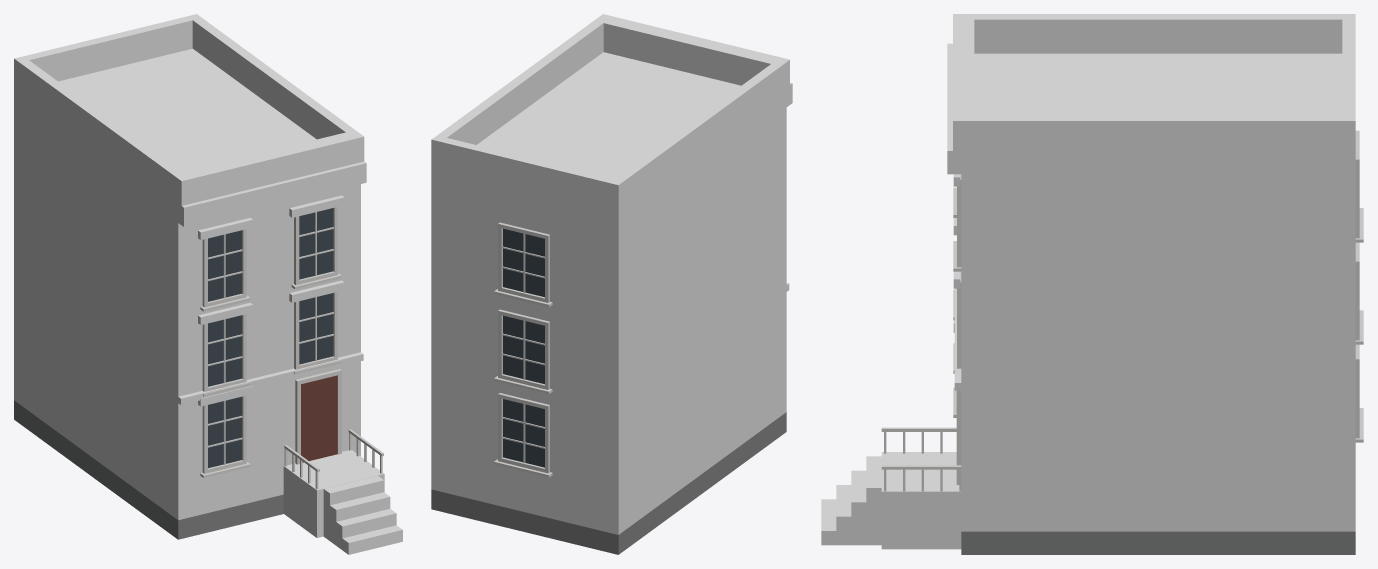
File: city_townhouse.fbx
3 views of the same model, side by side, from view 1: azimuth 30°, elevation 25°; view 2: azimuth 150°, elevation 25°; view 3: azimuth 270°, elevation 25° (orthographic). The views are drawn at different scales.
Parts seen in each view (by area): view 1: brick_1, brickpale_1, glass_1, trim_1, concrete_1, door_1; view 2: brick_1, brickpale_1, concrete_1, glass_1, trim_1; view 3: brick_1, brickpale_1, concrete_1, trim_1.
Part boxes in pixels (bbox=[...]): brick_1: bbox=[14, 48, 360, 520]; brickpale_1: bbox=[14, 14, 402, 554]; glass_1: bbox=[208, 208, 333, 468]; trim_1: bbox=[200, 207, 383, 489]; concrete_1: bbox=[14, 400, 283, 539]; door_1: bbox=[301, 375, 337, 462]; brick_1: bbox=[431, 52, 786, 534]; brickpale_1: bbox=[431, 14, 792, 291]; concrete_1: bbox=[431, 412, 786, 554]; glass_1: bbox=[503, 228, 544, 467]; trim_1: bbox=[494, 222, 552, 477]; brick_1: bbox=[961, 53, 1355, 531]; brickpale_1: bbox=[821, 14, 1355, 549]; concrete_1: bbox=[961, 531, 1355, 554]; trim_1: bbox=[881, 130, 1363, 491].
Size of the model in its own units: 0.54 by 1.02 by 1.16.
